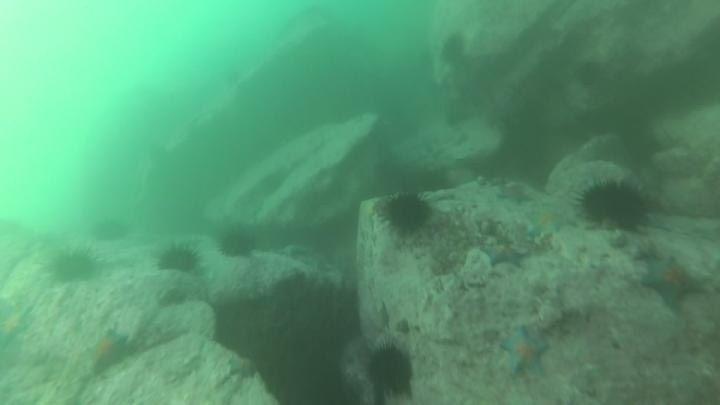echinus: (576, 176, 653, 234), (362, 340, 417, 400), (380, 190, 434, 237), (47, 247, 100, 286), (155, 241, 203, 276), (216, 226, 259, 261), (406, 165, 451, 196), (90, 215, 131, 245), (438, 31, 469, 67), (573, 59, 605, 90)
starfish: (637, 252, 709, 313), (498, 324, 552, 378), (85, 326, 135, 376), (523, 203, 576, 241), (0, 299, 35, 350), (479, 239, 528, 271), (224, 352, 261, 382), (494, 180, 535, 207)
